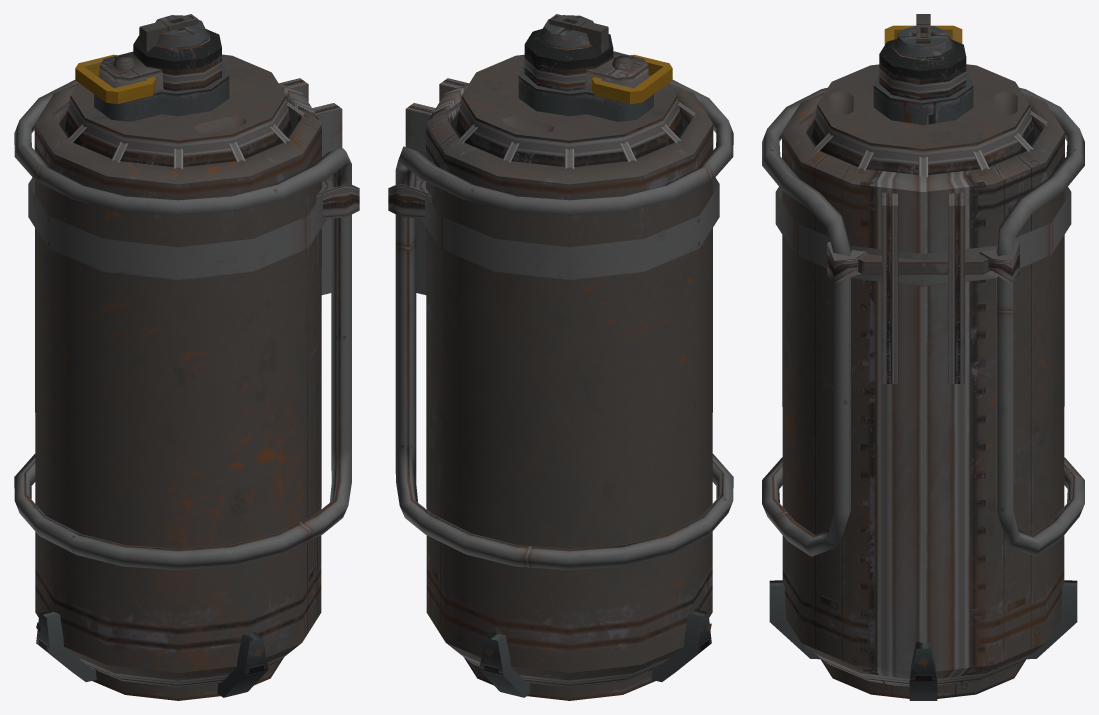
The model's file is Prop_Cylinder2_L2.fbx.
3 renders of one model, left to right at view 1: azimuth 30°, elevation 25°; view 2: azimuth 150°, elevation 25°; view 3: azimuth 270°, elevation 25°, orthographic.
Parts seen in each view (by area): view 1: Prop_Cylinder2_L2; view 2: Prop_Cylinder2_L2; view 3: Prop_Cylinder2_L2.
Boxes of the visible parts, x1,y1,x2,y2 form: Prop_Cylinder2_L2: [14, 14, 359, 700]; Prop_Cylinder2_L2: [388, 14, 733, 700]; Prop_Cylinder2_L2: [762, 14, 1084, 700].
Bounding box in the file's own units: 79.28 × 168 × 78.7.
